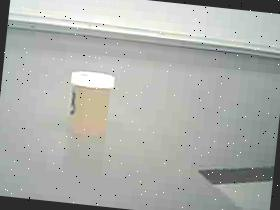Bottle B: (59, 62, 121, 146)
